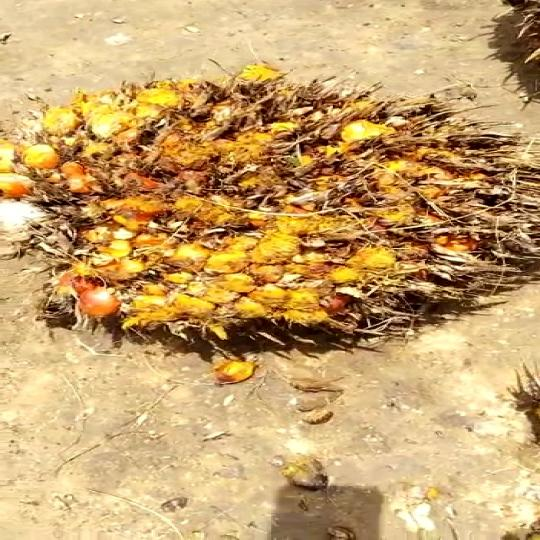terlalu masak: (0, 66, 540, 380)
